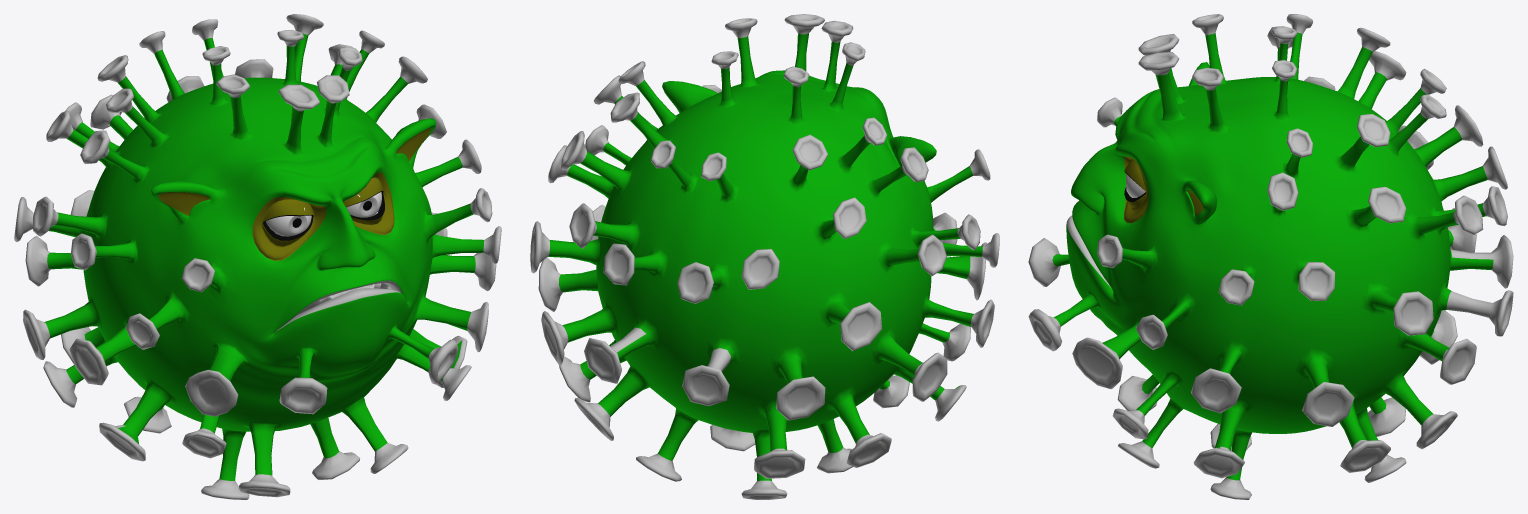
Rendered from Corona_05.fbx.
The picture shows the model from 3 angles, left to right: view 1: azimuth 30°, elevation 25°; view 2: azimuth 150°, elevation 25°; view 3: azimuth 270°, elevation 25°; orthographic projection. The views are drawn at different scales.
Visible parts, largest first — view 1: polySurface4; view 2: polySurface4; view 3: polySurface4.
Part boxes in pixels (x1=…): polySurface4: x1=14, y1=14, x2=501, y2=499; polySurface4: x1=530, y1=14, x2=999, y2=499; polySurface4: x1=1028, y1=14, x2=1513, y2=499.
Size of the model in its own units: 11.62 by 11.6 by 11.84.
